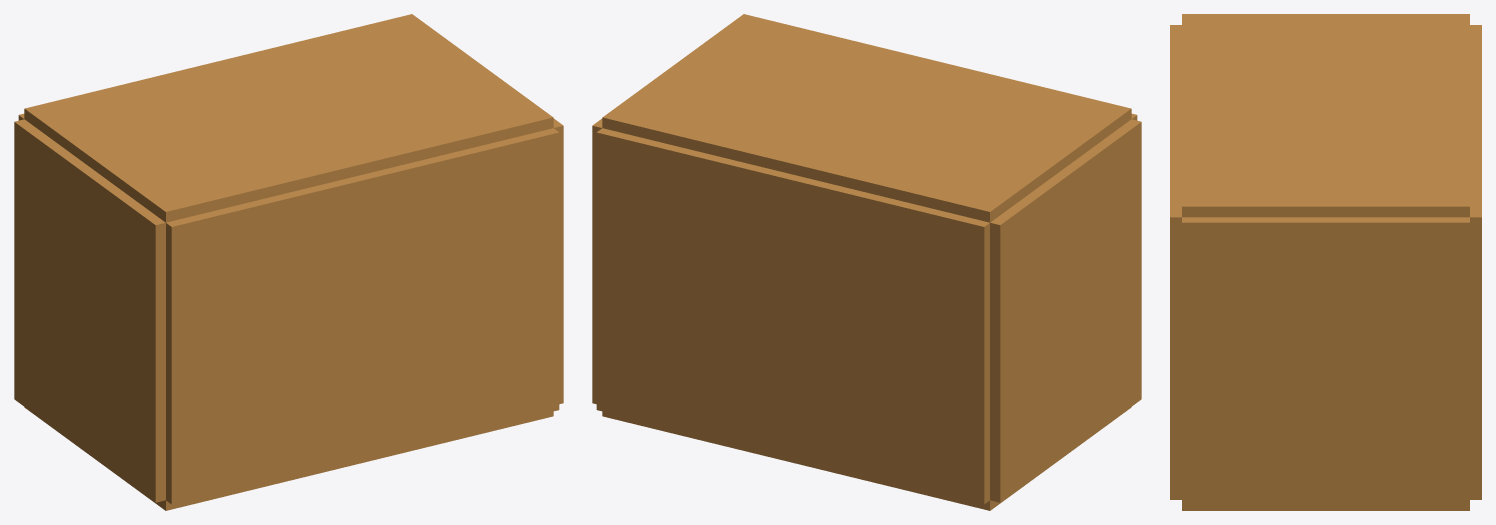
The model's file is Frontier_FieldShelter_SupplyBox.glb.
The picture shows the model from 3 angles, left to right: view 1: azimuth 30°, elevation 25°; view 2: azimuth 150°, elevation 25°; view 3: azimuth 270°, elevation 25°; orthographic projection.
Visible parts, largest first — view 1: Frontier_FieldShelter_SupplyBox; view 2: Frontier_FieldShelter_SupplyBox; view 3: Frontier_FieldShelter_SupplyBox.
Boxes of the visible parts, x1,y1,x2,y2 form: Frontier_FieldShelter_SupplyBox: [14, 14, 563, 510]; Frontier_FieldShelter_SupplyBox: [592, 14, 1141, 510]; Frontier_FieldShelter_SupplyBox: [1170, 14, 1481, 510].
Size of the model in its own units: 1 by 0.7 by 0.65.
